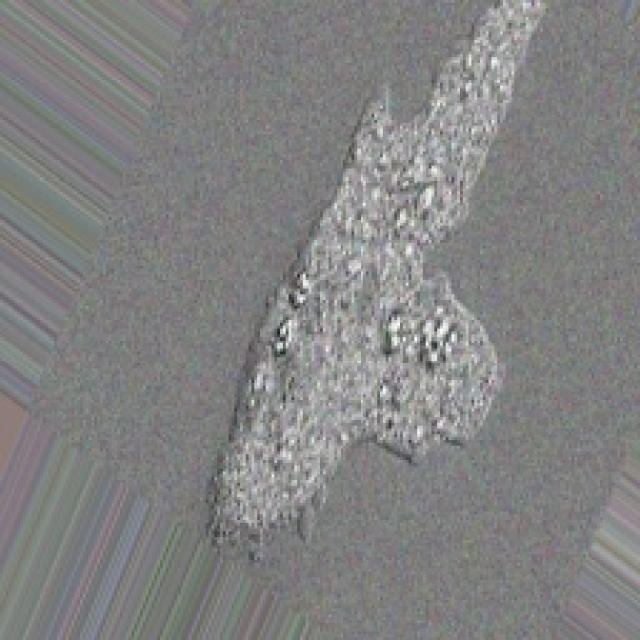Amoeba: (200, 0, 557, 563)
